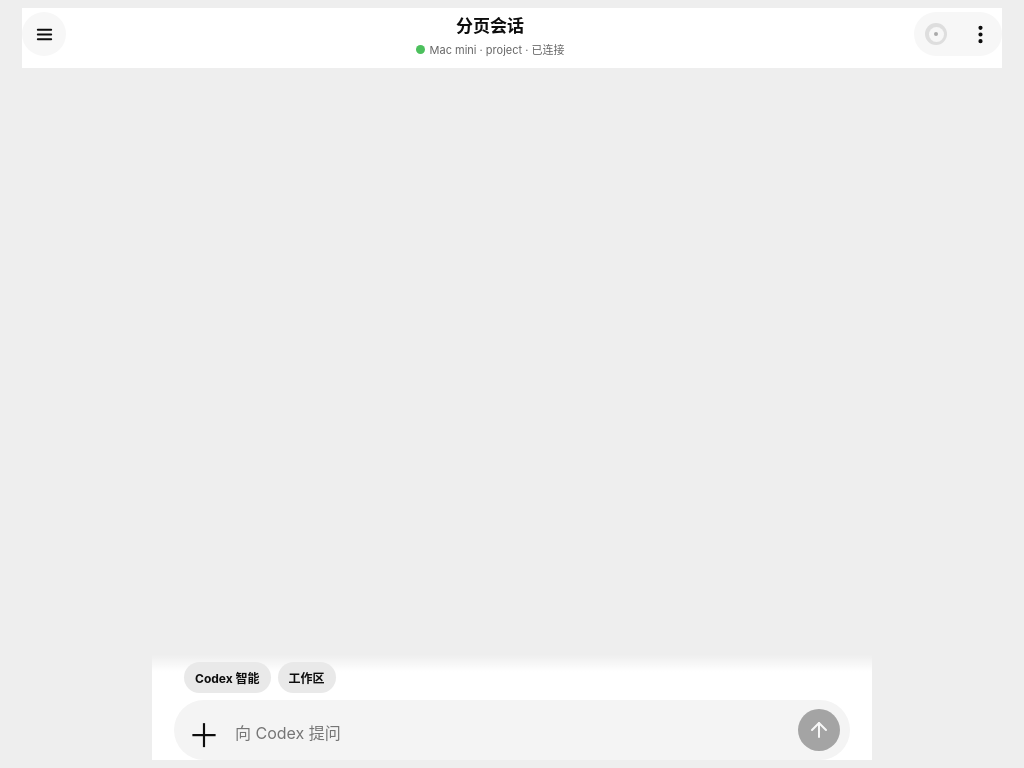
Test: 会话详情历史分页 › 会话操作菜单可以刷新当前会话并自动关闭
The image size is (1024, 768).
Click the button named "会话操作" at (980, 34), box [958,12,1002,56]
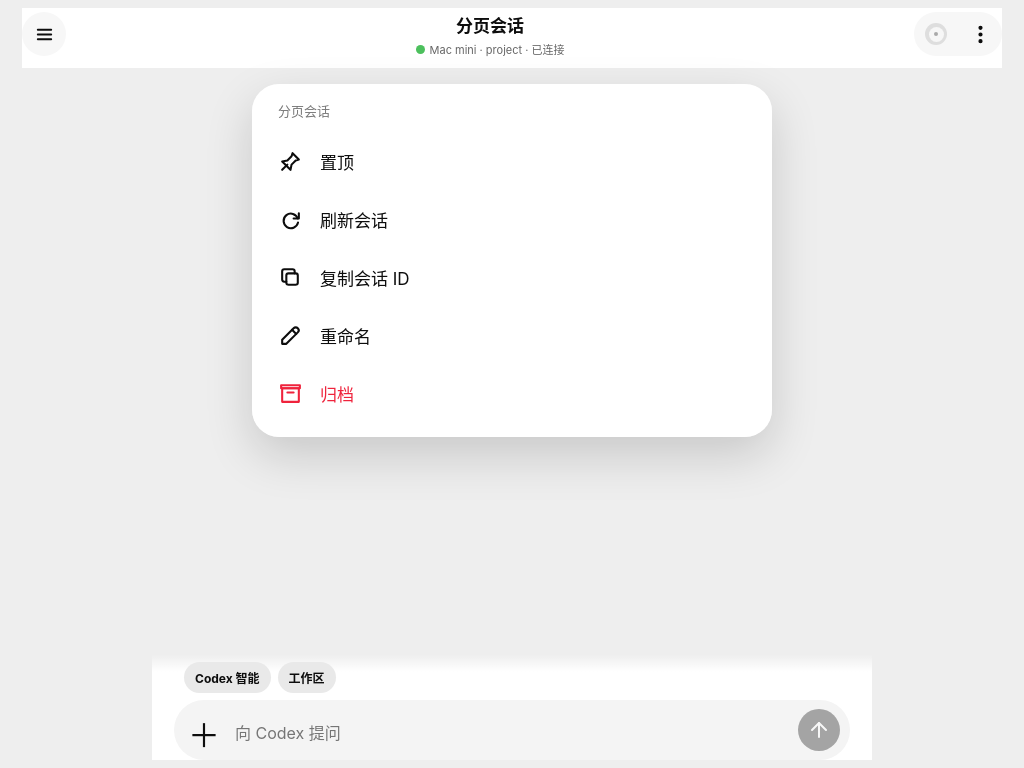
Click the button "刷新会话" at (354, 221), box [266,191,758,249]
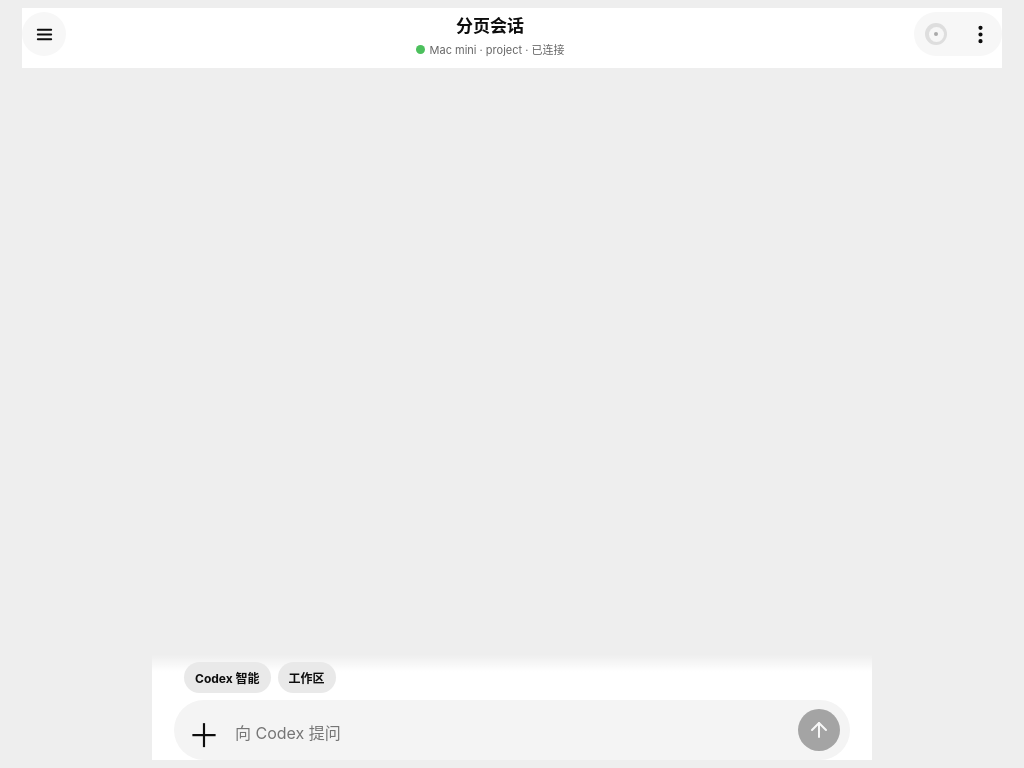
Check: the text "分页会话 置顶 刷新会话 复制会话 ID 重命名 归档" is gone
